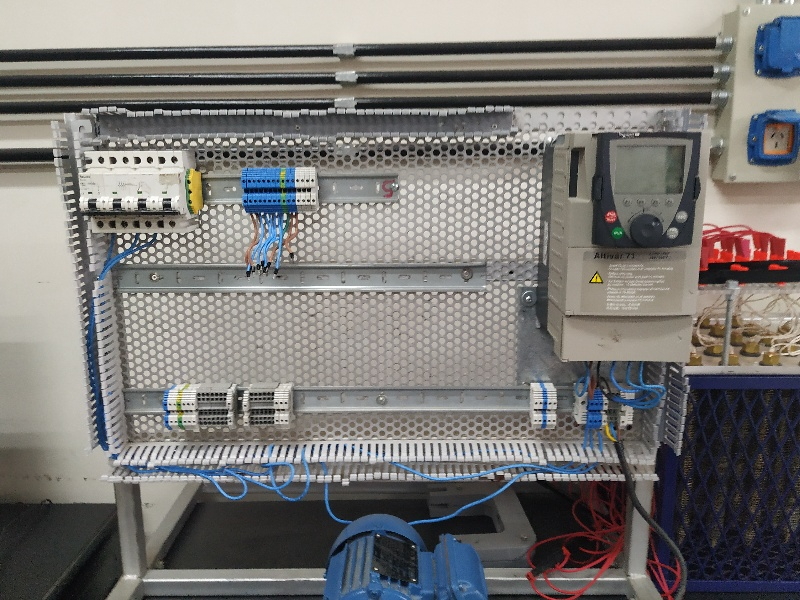Tablero 0: (68, 109, 701, 477)
